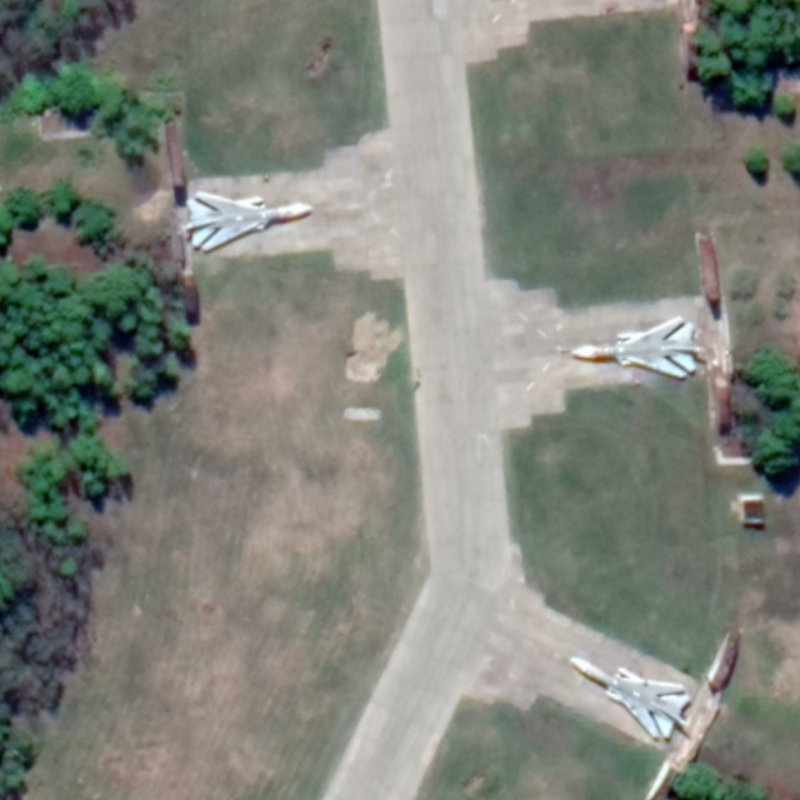A20: (568, 655, 693, 741), (570, 314, 699, 381), (184, 189, 316, 254)
